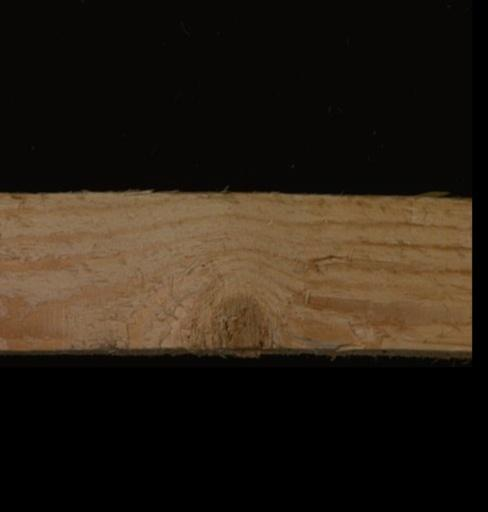edge_knot: (189, 294, 273, 361)
wave: (288, 333, 376, 359)
